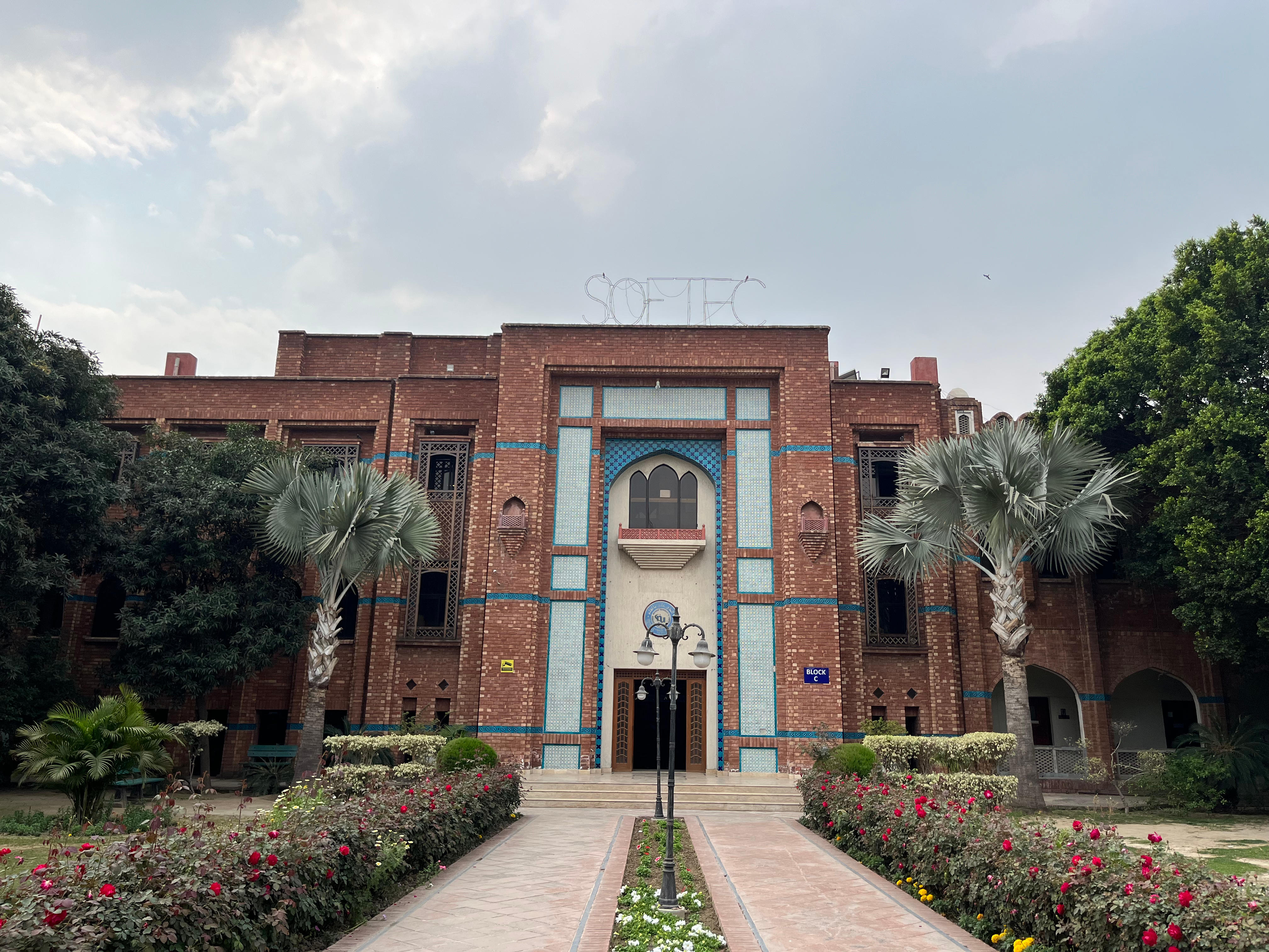Block C: (2, 264, 1269, 807)
